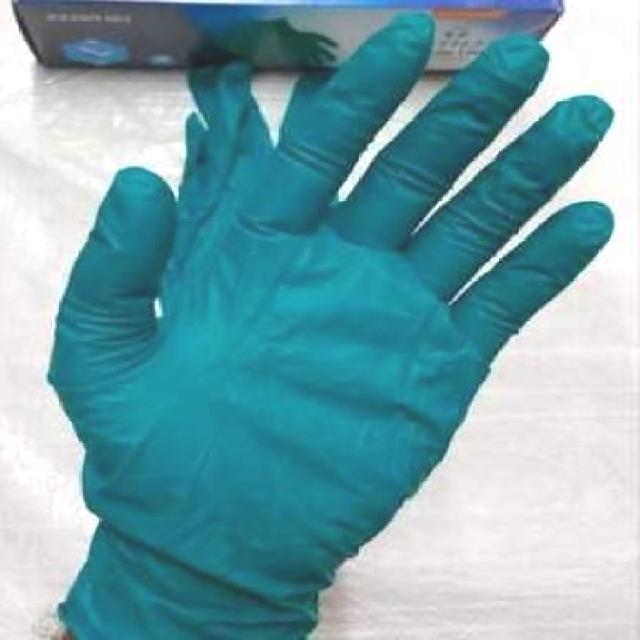glove: (44, 17, 624, 638)
